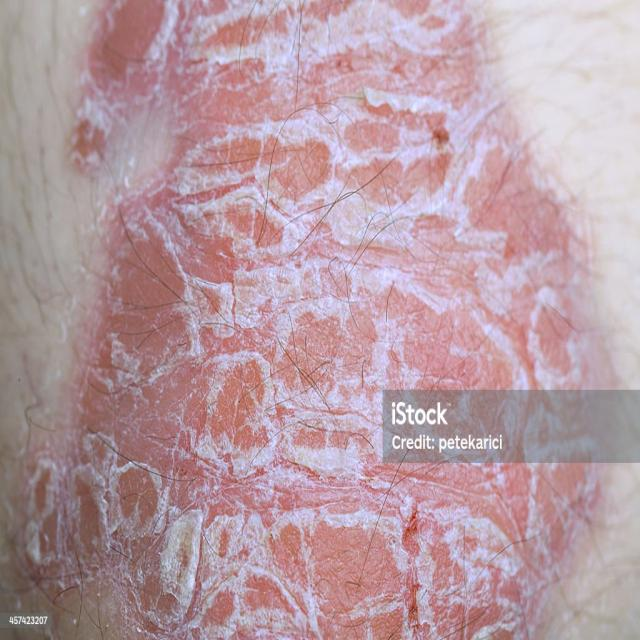Dry-Skin: (344, 119, 456, 276), (245, 140, 323, 300), (245, 373, 329, 520), (112, 429, 195, 568), (348, 36, 461, 130), (110, 30, 180, 181), (152, 223, 225, 361), (374, 309, 481, 397), (235, 539, 300, 640), (373, 545, 443, 636), (9, 456, 72, 554), (520, 233, 564, 373), (143, 495, 195, 603), (187, 28, 240, 133)
